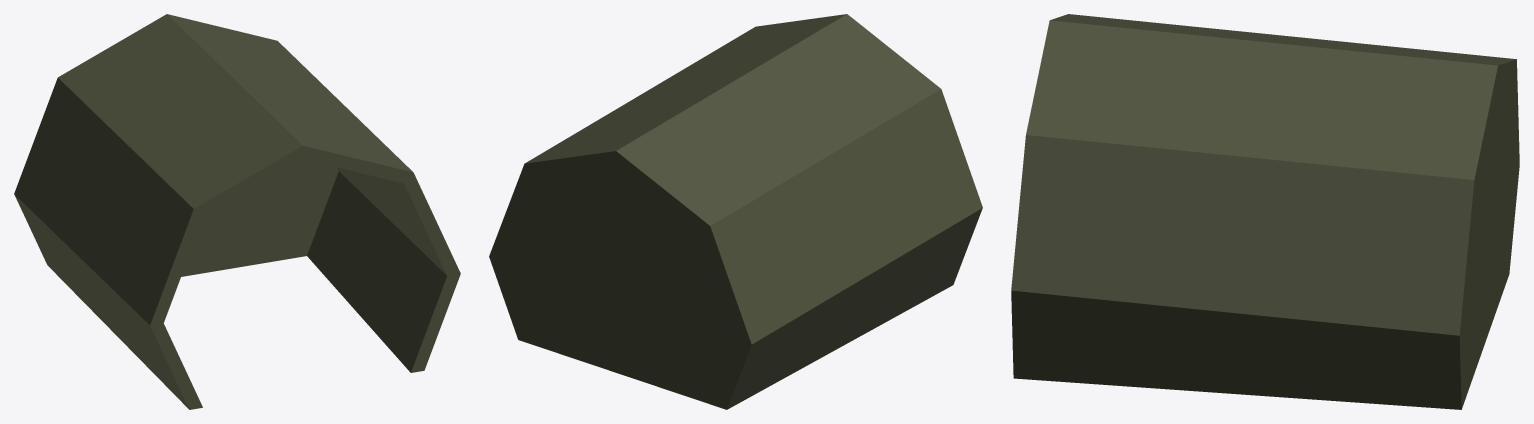
The model's file is CAN.fbx.
3 views of the same model, side by side, from view 1: azimuth 30°, elevation 25°; view 2: azimuth 150°, elevation 25°; view 3: azimuth 270°, elevation 25° (orthographic). The views are drawn at different scales.
Parts seen in each view (by area): view 1: TELTTAA.007; view 2: TELTTAA.007; view 3: TELTTAA.007.
Part boxes in pixels (x1=…): TELTTAA.007: x1=14, y1=14, x2=460, y2=409; TELTTAA.007: x1=489, y1=14, x2=982, y2=409; TELTTAA.007: x1=1011, y1=14, x2=1519, y2=409.
Bounding box in the file's own units: 135 × 92.95 × 146.
